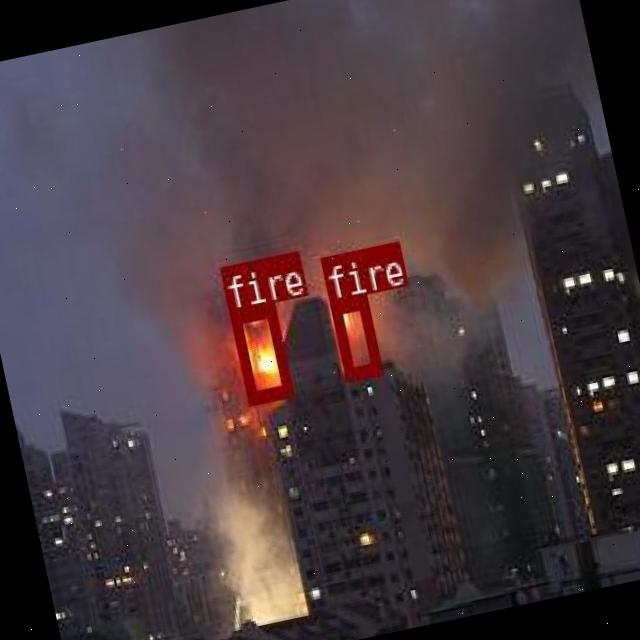fire: (228, 303, 290, 402), (328, 295, 381, 378)
